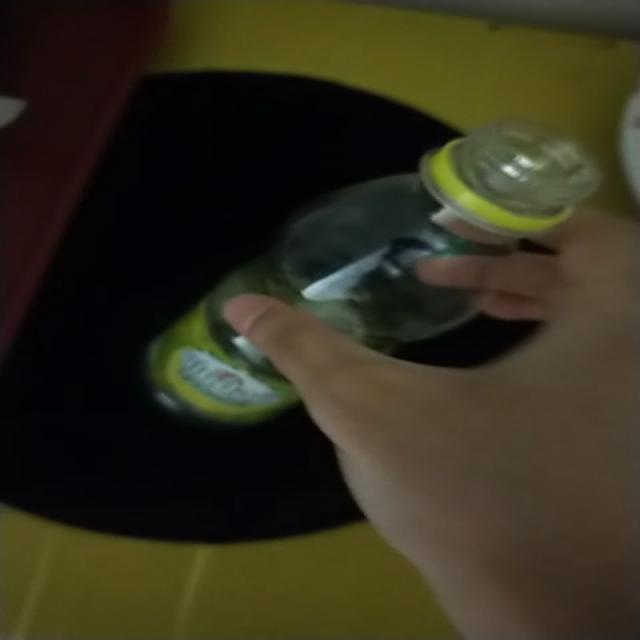Plastic: (149, 121, 603, 422)
